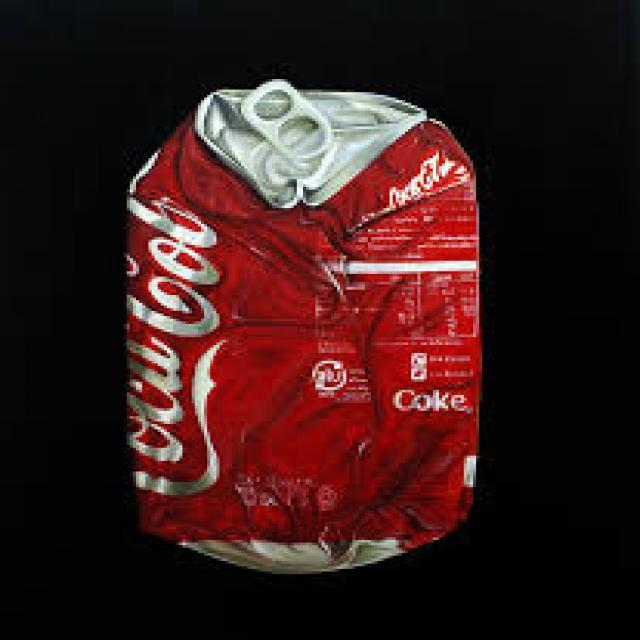metal-can: (118, 76, 480, 574)
